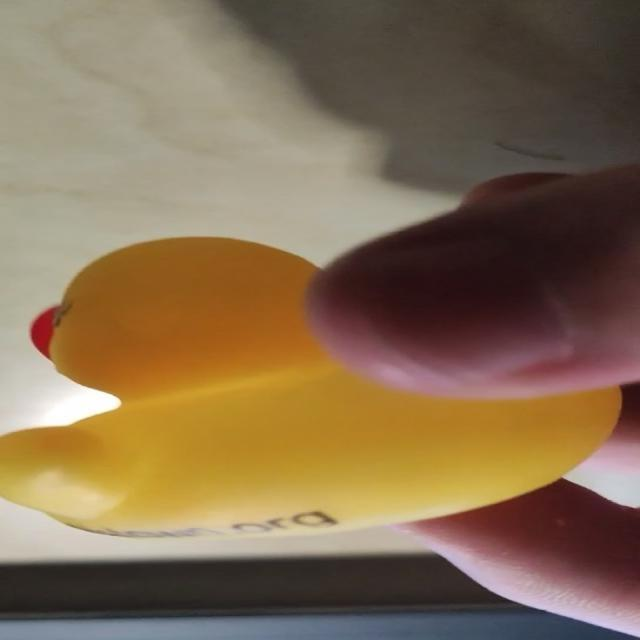rubber-duck: (0, 236, 618, 533)
